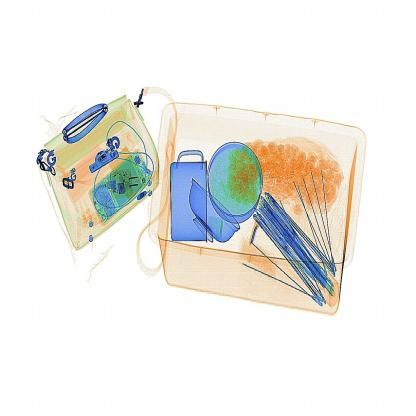pliers: (248, 214, 265, 254)
